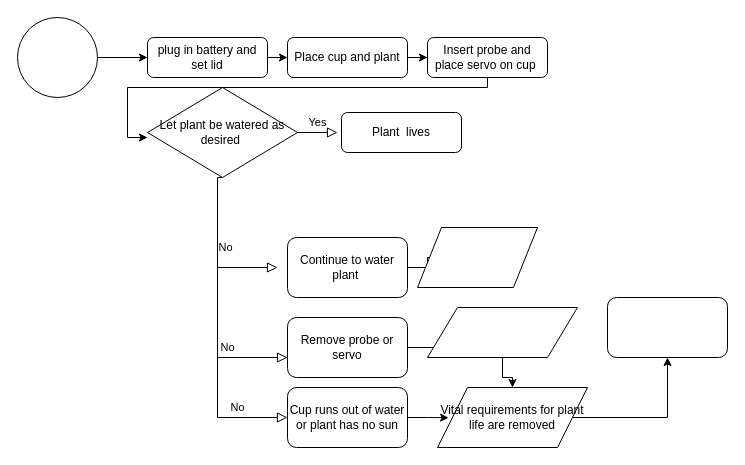
This 745x465 diagram has some shape labels left out. Here are the shapes that lost their labels. From the top down, the box of each, then its label:
(16, 16, 98, 98): Use project to sustain plant life
(416, 226, 538, 288): Removes the need for the device
(426, 306, 578, 358): Breaks the circuit and plant is not watered
(606, 296, 728, 358): Plant dies
